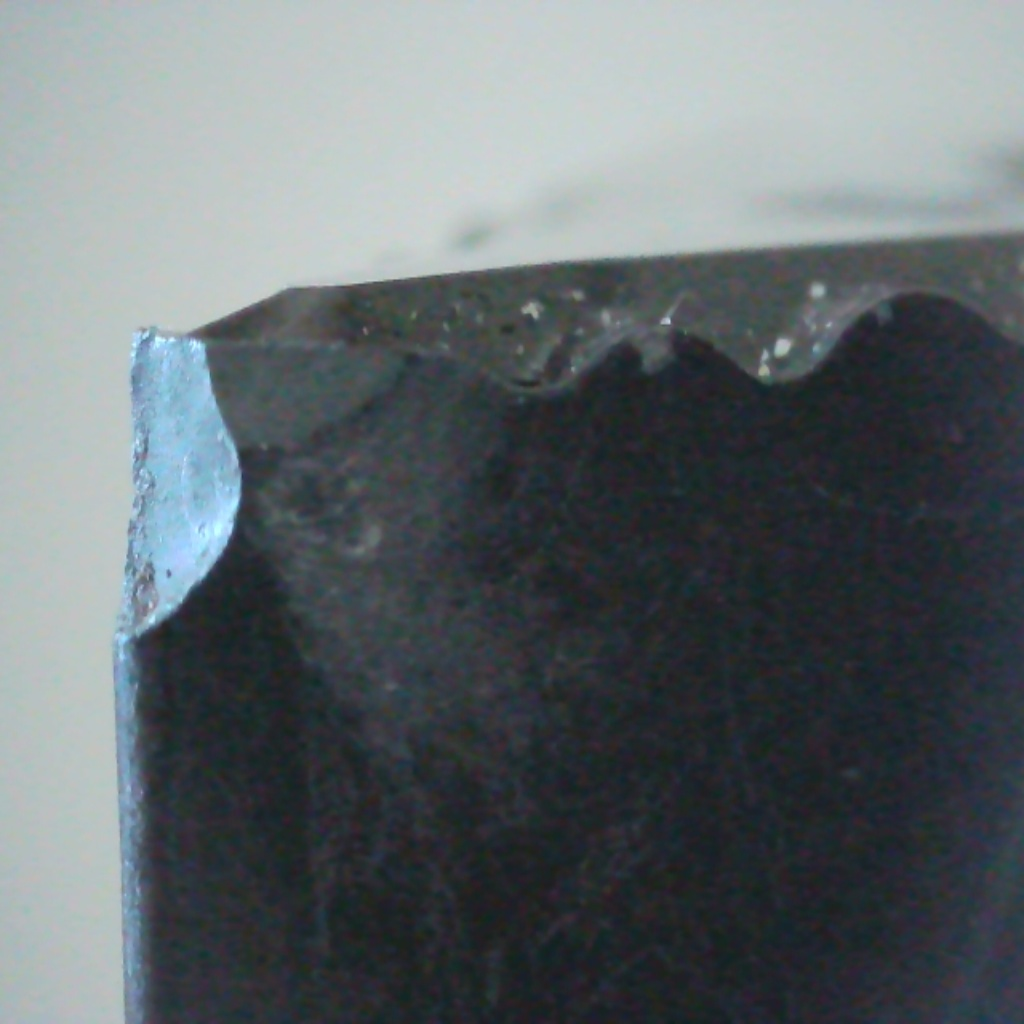flank_wear: (97, 320, 253, 664)
